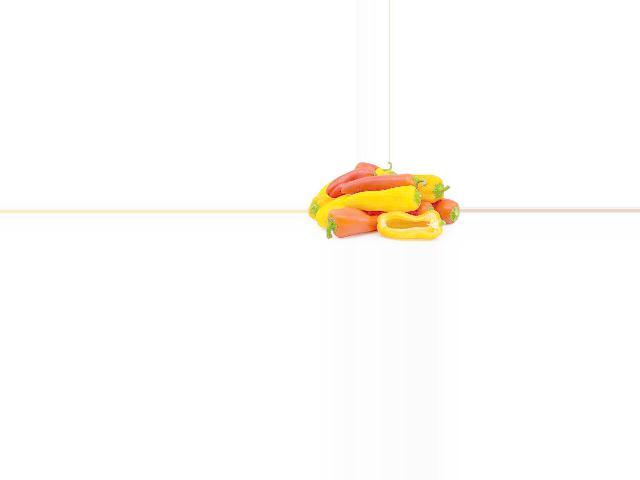bell_pepper: (417, 193, 460, 223)
